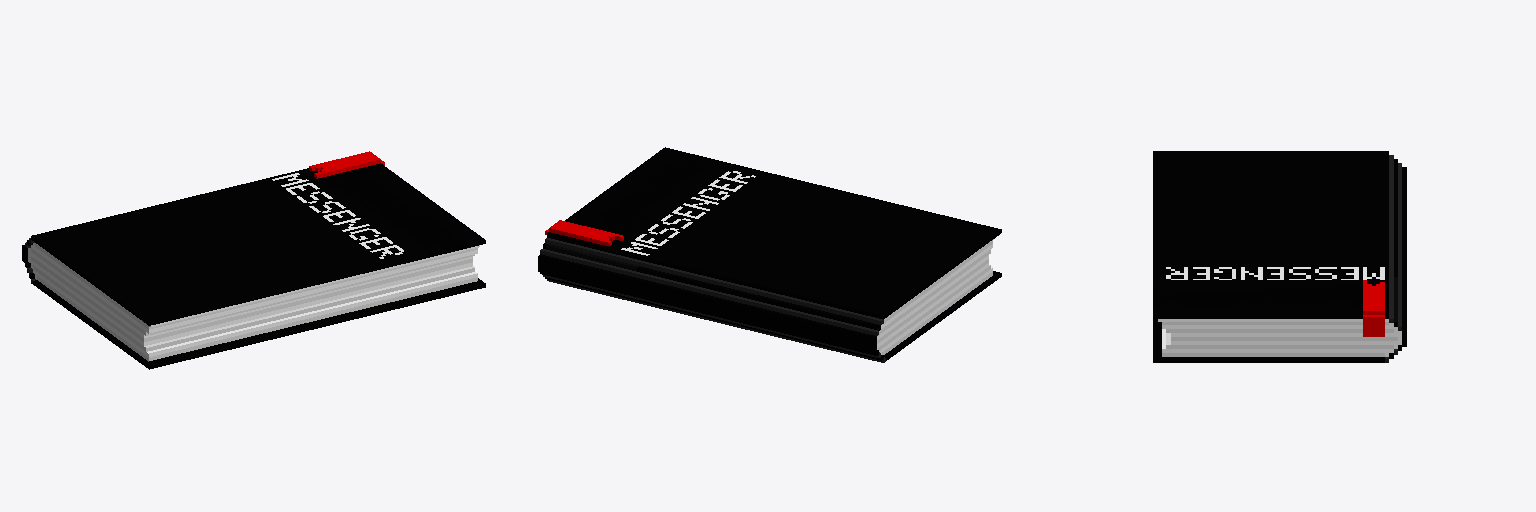
3 renders of one model, left to right at view 1: azimuth 30°, elevation 25°; view 2: azimuth 150°, elevation 25°; view 3: azimuth 270°, elevation 25°, orthographic.
Bounding box in the file's own units: 90 × 13 × 58.
Materials: 1 (1 with a texture image).